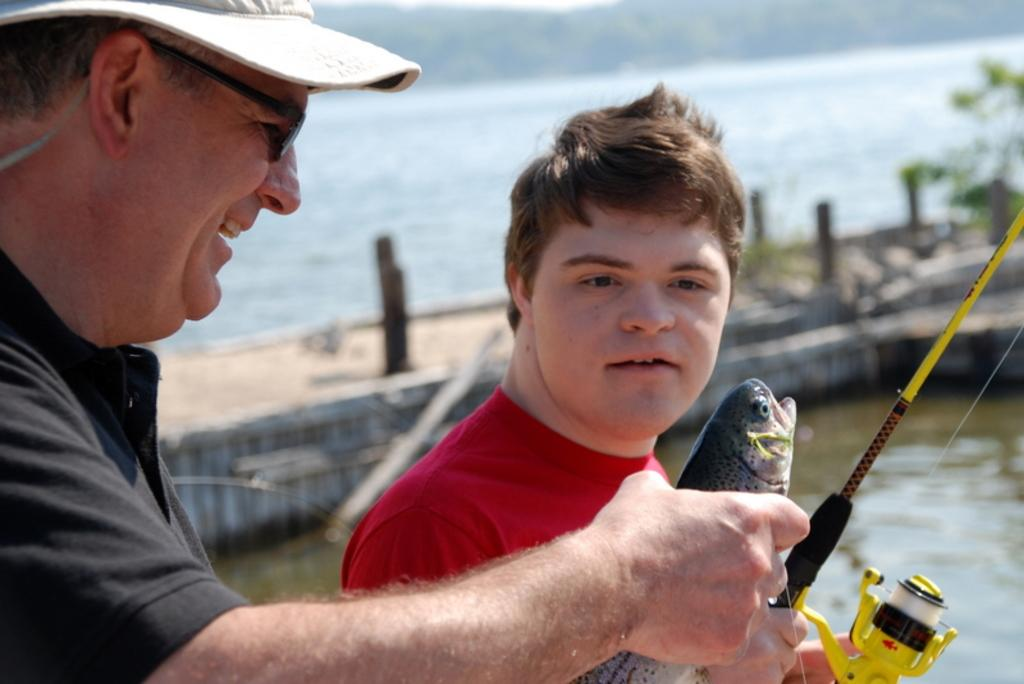Hat: (0, 0, 416, 94)
